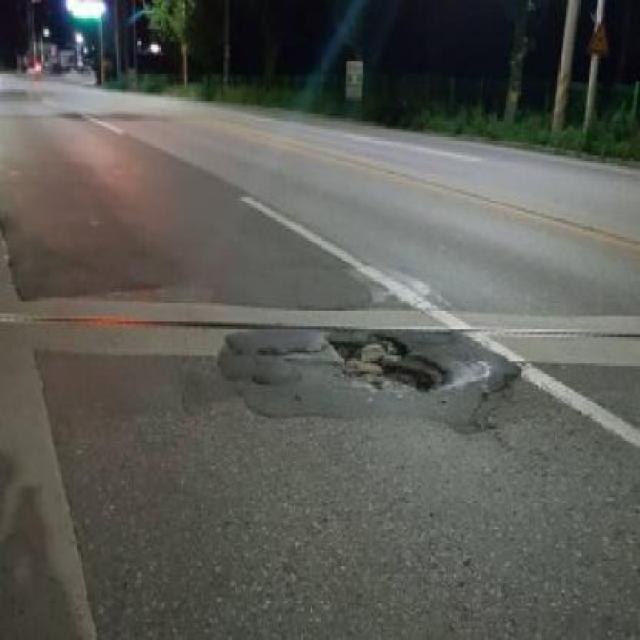Pothole: (266, 329, 452, 400)
